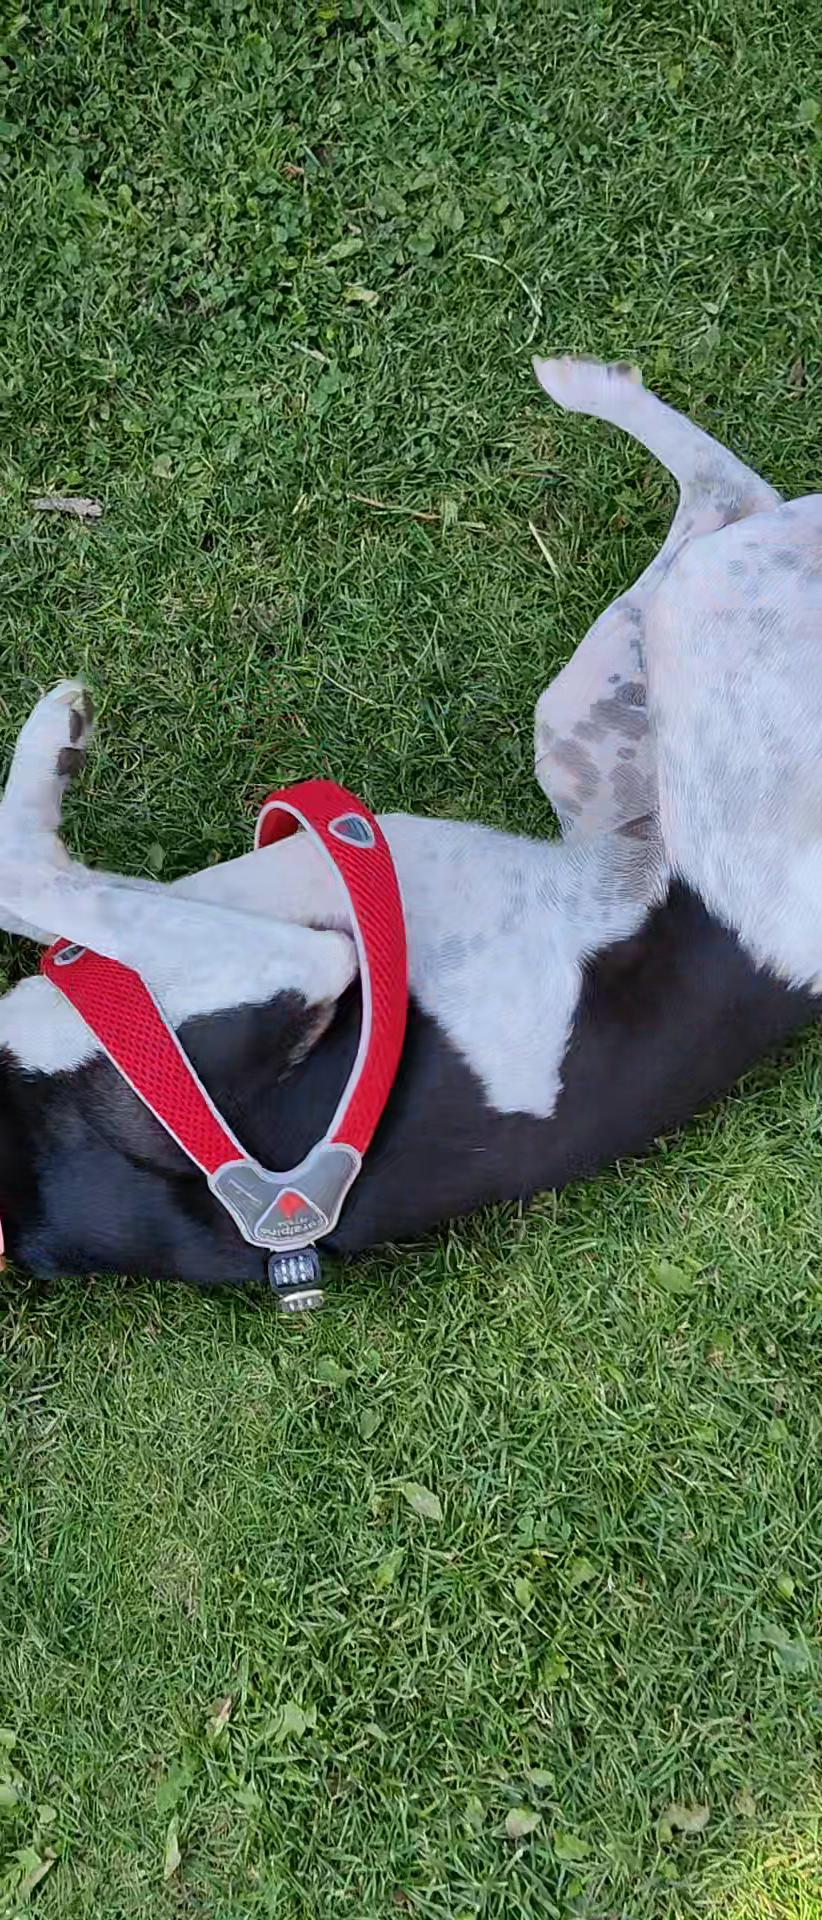Dog: (0, 339, 821, 1324)
